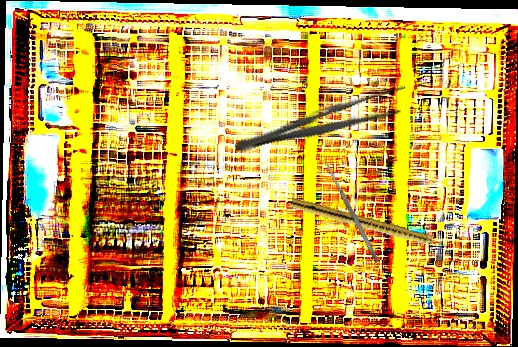Dressing Forceps: (231, 81, 413, 164)
Handpiece: (288, 197, 451, 253)
Spatula Surgical: (322, 158, 381, 264)
